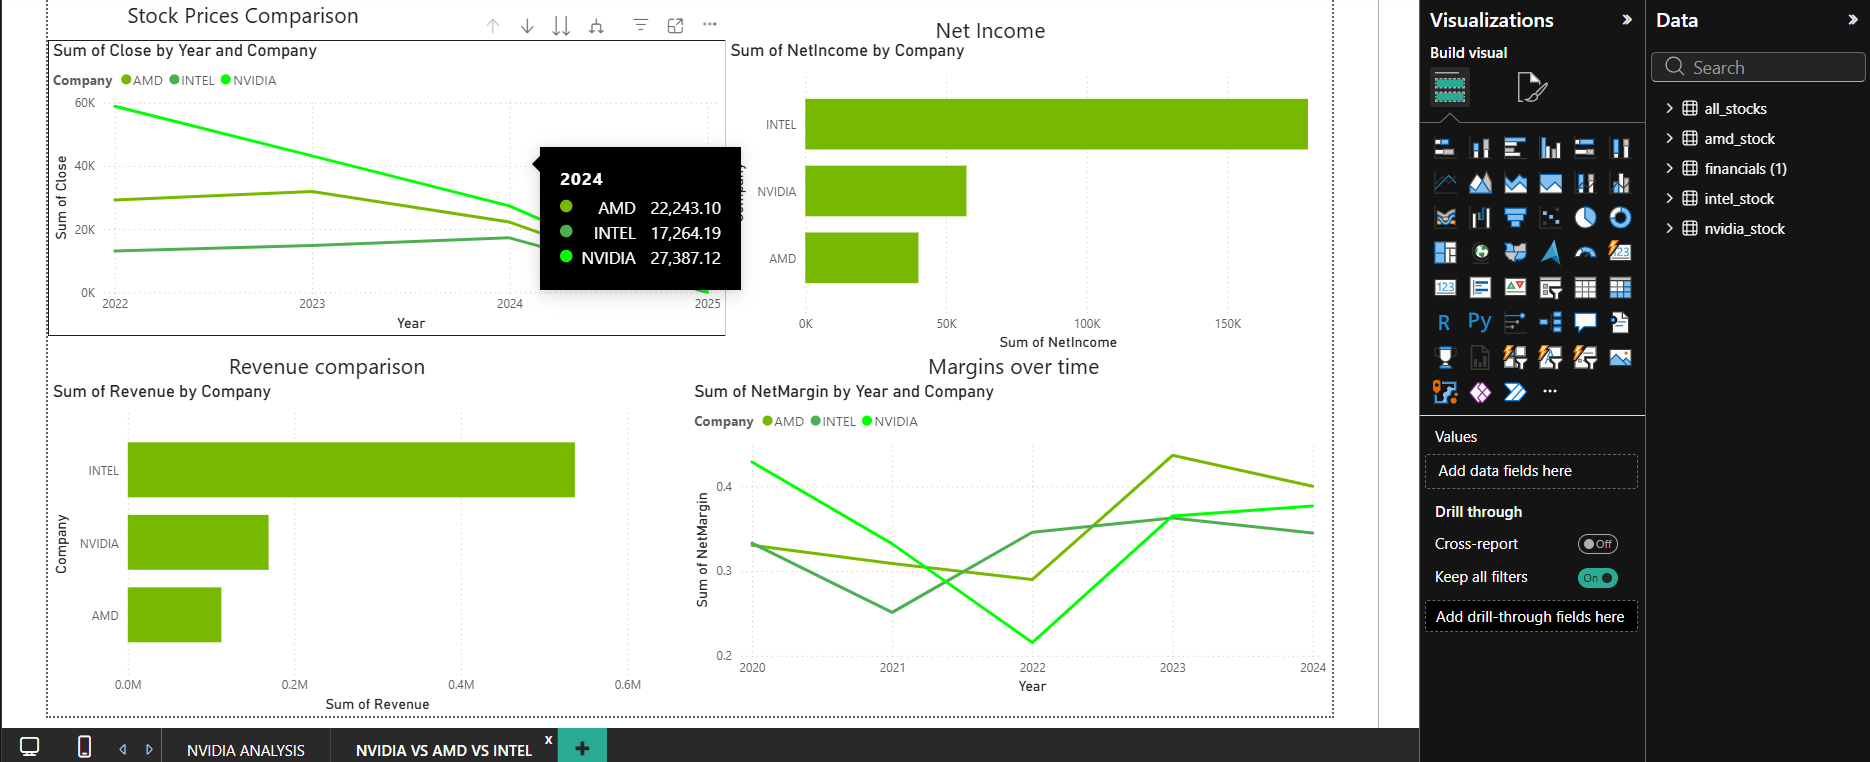

The dashboard page shown, as its layout file describes it:
{"tool":"powerbi","page":{"name":"NVIDIA VS AMD VS INTEL","canvas":[1280,720],"ordinal":1},"visuals":[{"type":"textbox","box":[10,0,400,280],"z":0},{"type":"lineChart","fields":{"Category":["all_stocks.Date.Variation.Date Hierarchy.Year","all_stocks.Date.Variation.Date Hierarchy.Quarter","all_stocks.Date.Variation.Date Hierarchy.Month","all_stocks.Date.Variation.Date Hierarchy.Day"],"Y":["Sum(all_stocks.Close)"],"Series":["all_stocks.Company"]},"box":[0,44.9,675.7,295.5],"z":1000},{"type":"textbox","box":[0,350,676,295],"z":2000},{"type":"textbox","box":[676.2,15,603.8,325],"z":2001},{"type":"clusteredBarChart","fields":{"Y":["Sum(financials (1).Revenue)"],"Category":["financials (1).Company"]},"box":[0,385.2,597.2,335.4],"z":2002},{"type":"textbox","box":[686,350,594,295],"z":2003},{"type":"clusteredBarChart","fields":{"Y":["Sum(financials (1).NetIncome)"],"Category":["financials (1).Company"]},"box":[676.2,45,603.8,315],"z":2004},{"type":"lineChart","fields":{"Category":["financials (1).Year"],"Y":["Sum(financials (1).NetMargin)"],"Series":["financials (1).Company"]},"box":[640,385,640,317.5],"z":2005}]}

Visuals, with their boxes on the page's 1280x720 design canvas (x1, y1, x2, y2). These are canvas units, not pixel positions in the 1870x762 screenshot, which may show the page scaled, cropped or inside an application window:
textbox: [10,0,410,280]
lineChart - all_stocks.Date.Variation.Date Hierarchy.Year x all_stocks.Date.Variation.Date Hierarchy.Quarter: [0,45,676,340]
textbox: [0,350,676,645]
textbox: [676,15,1280,340]
clusteredBarChart - Sum(financials (1).Revenue) x financials (1).Company: [0,385,597,721]
textbox: [686,350,1280,645]
clusteredBarChart - Sum(financials (1).NetIncome) x financials (1).Company: [676,45,1280,360]
lineChart - financials (1).Year x Sum(financials (1).NetMargin): [640,385,1280,702]
